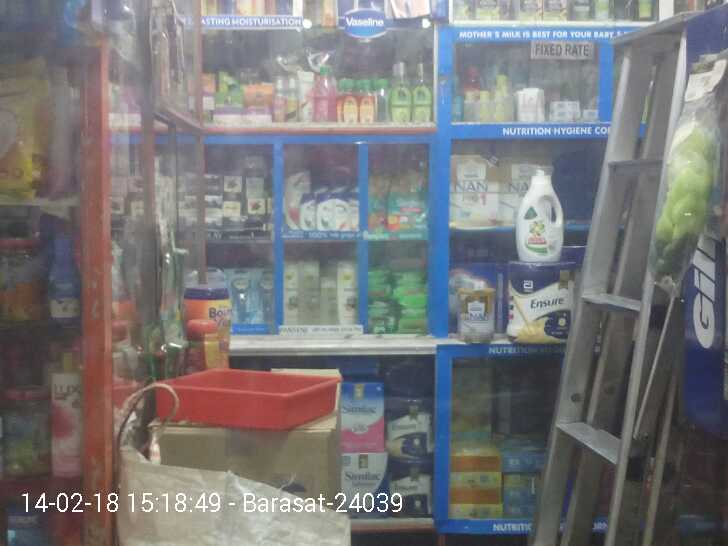venus: (231, 267, 264, 323)
